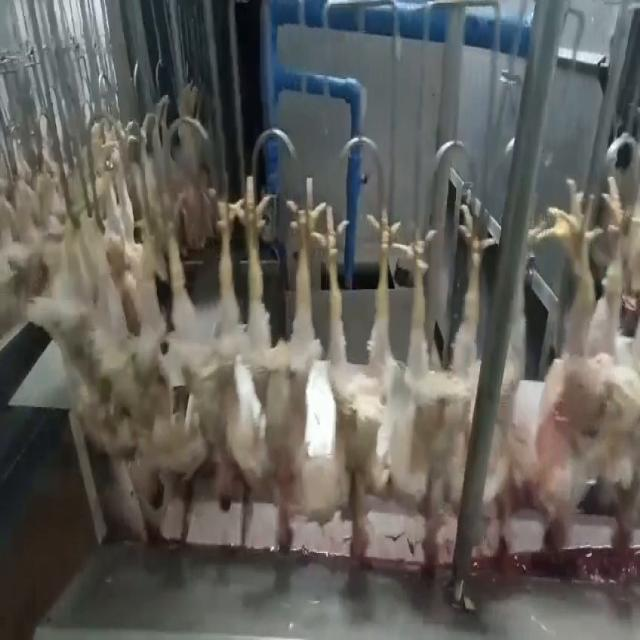chicken: (399, 196, 505, 580), (514, 173, 596, 562), (316, 198, 401, 567), (243, 177, 316, 554), (163, 184, 240, 513), (580, 176, 639, 564), (110, 193, 164, 512)
